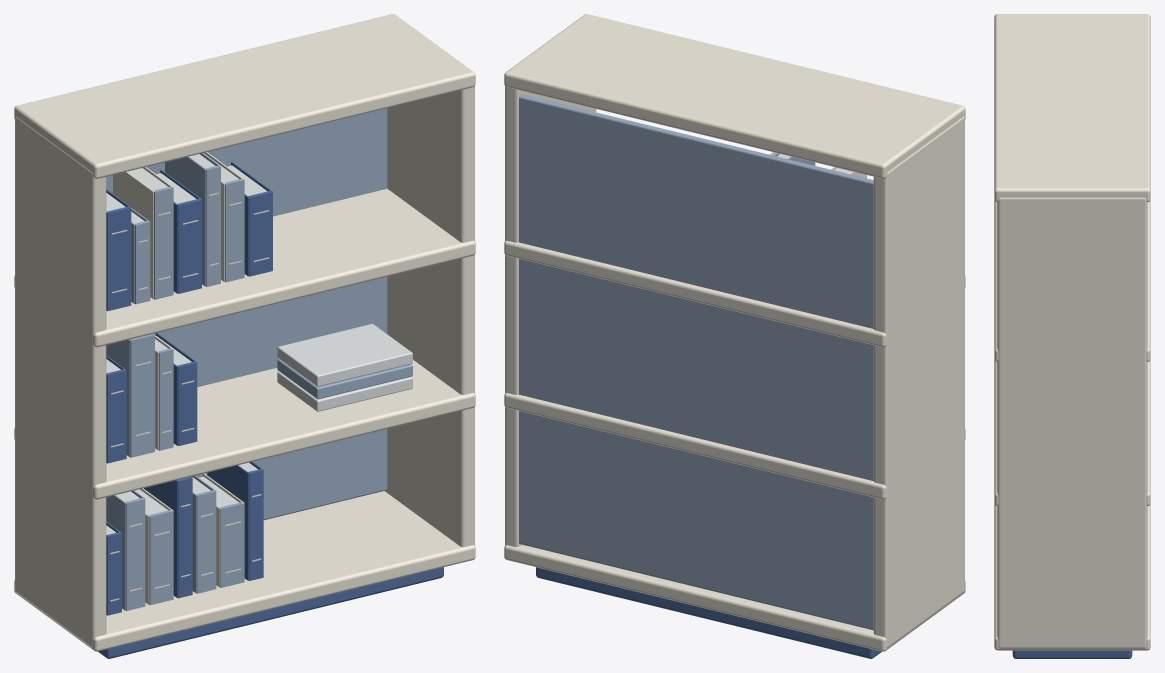
Rendered from small-bookcase.glb.
3 views of the same model, side by side, from view 1: azimuth 30°, elevation 25°; view 2: azimuth 150°, elevation 25°; view 3: azimuth 270°, elevation 25° (orthographic). The views are drawn at different scales.
Parts seen in each view (by area): view 1: side-panel--1, shelf-3, spine (×18), inset-back, side-panel-1, shelf-0, shelf-2, shelf-1, cover--1 (×6), stacked-journal-2, recessed-plinth, stacked-journal-0 (+1 smaller); view 2: inset-back, side-panel--1, shelf-3, shelf-0, shelf-2, shelf-1, side-panel-1, recessed-plinth; view 3: side-panel-1, shelf-3, shelf-0, shelf-2, shelf-1, recessed-plinth.
Part boxes in pixels (bbox=[...]): side-panel--1: bbox=[15, 116, 106, 647]; shelf-3: bbox=[14, 14, 475, 178]; spine (×18): bbox=[106, 165, 272, 615]; inset-back: bbox=[106, 108, 387, 520]; side-panel-1: bbox=[385, 86, 474, 547]; shelf-0: bbox=[14, 491, 475, 651]; shelf-2: bbox=[14, 188, 475, 347]; shelf-1: bbox=[14, 360, 475, 499]; cover--1 (×6): bbox=[106, 156, 248, 610]; stacked-journal-2: bbox=[277, 324, 412, 386]; recessed-plinth: bbox=[98, 567, 443, 658]; stacked-journal-0: bbox=[277, 371, 412, 411]; inset-back: bbox=[519, 94, 873, 630]; side-panel--1: bbox=[873, 116, 964, 647]; shelf-3: bbox=[504, 14, 965, 178]; shelf-0: bbox=[504, 544, 965, 651]; shelf-2: bbox=[504, 240, 965, 347]; shelf-1: bbox=[504, 393, 965, 499]; side-panel-1: bbox=[505, 86, 596, 547]; recessed-plinth: bbox=[536, 567, 881, 658]; side-panel-1: bbox=[997, 197, 1147, 648]; shelf-3: bbox=[994, 14, 1150, 202]; shelf-0: bbox=[994, 504, 1150, 650]; shelf-2: bbox=[994, 200, 1150, 361]; shelf-1: bbox=[994, 360, 1150, 506]; recessed-plinth: bbox=[1012, 650, 1132, 658].
Size of the model in its own units: 1.47 by 1.87 by 0.55.
